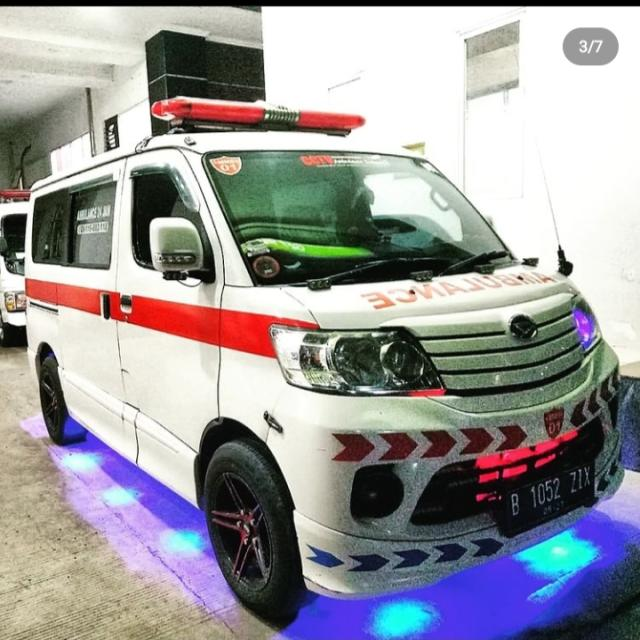emergency-vehicle: (6, 95, 639, 617)
